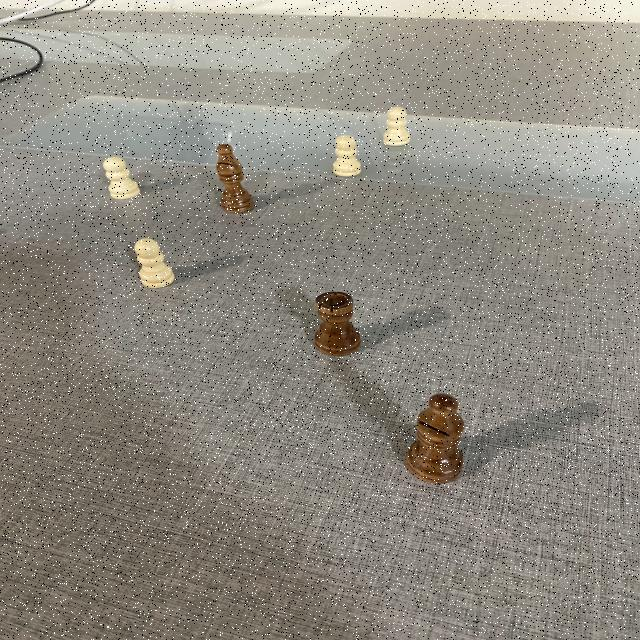Black-Bishop: (401, 393, 473, 489), (214, 143, 256, 217)
Black-Rook: (307, 286, 361, 361)
White-Pawn: (134, 236, 176, 290), (100, 154, 142, 202), (330, 135, 362, 179), (380, 106, 412, 148)
